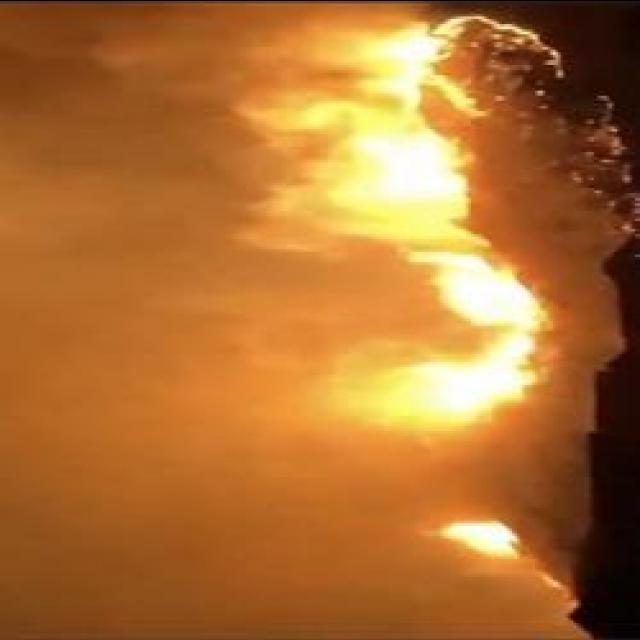fire: (314, 357, 540, 432), (362, 127, 457, 216), (434, 269, 528, 329), (439, 514, 516, 558), (387, 34, 435, 66)
smoke: (218, 26, 303, 258), (0, 0, 210, 90), (225, 0, 368, 72)
